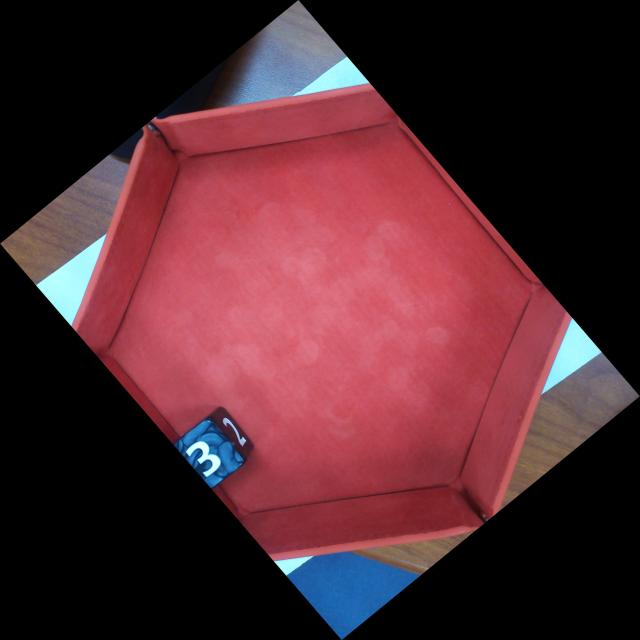dice: (178, 420, 249, 487)
